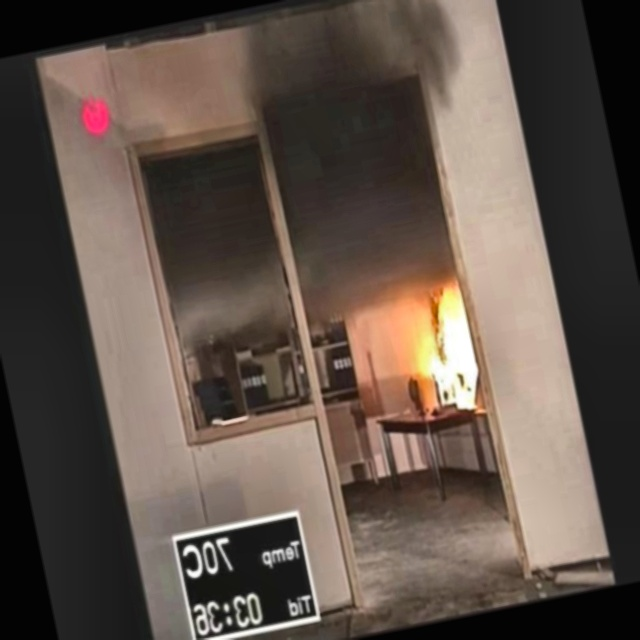fire: (381, 269, 488, 433)
